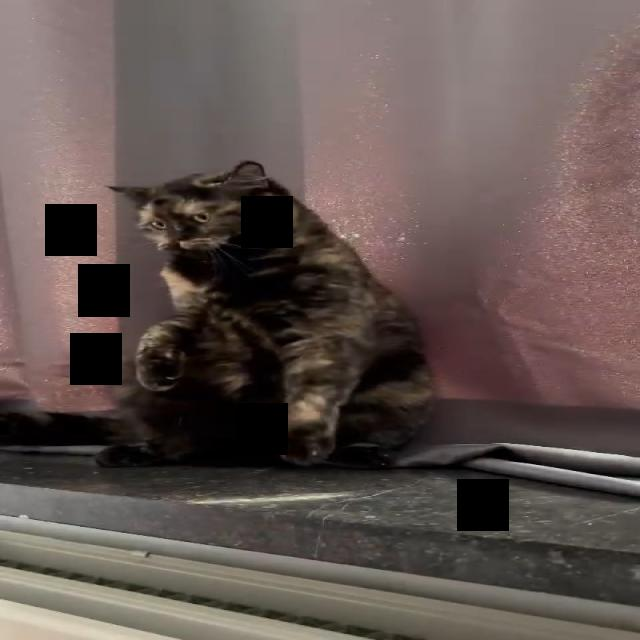authorized: (96, 159, 436, 469)
